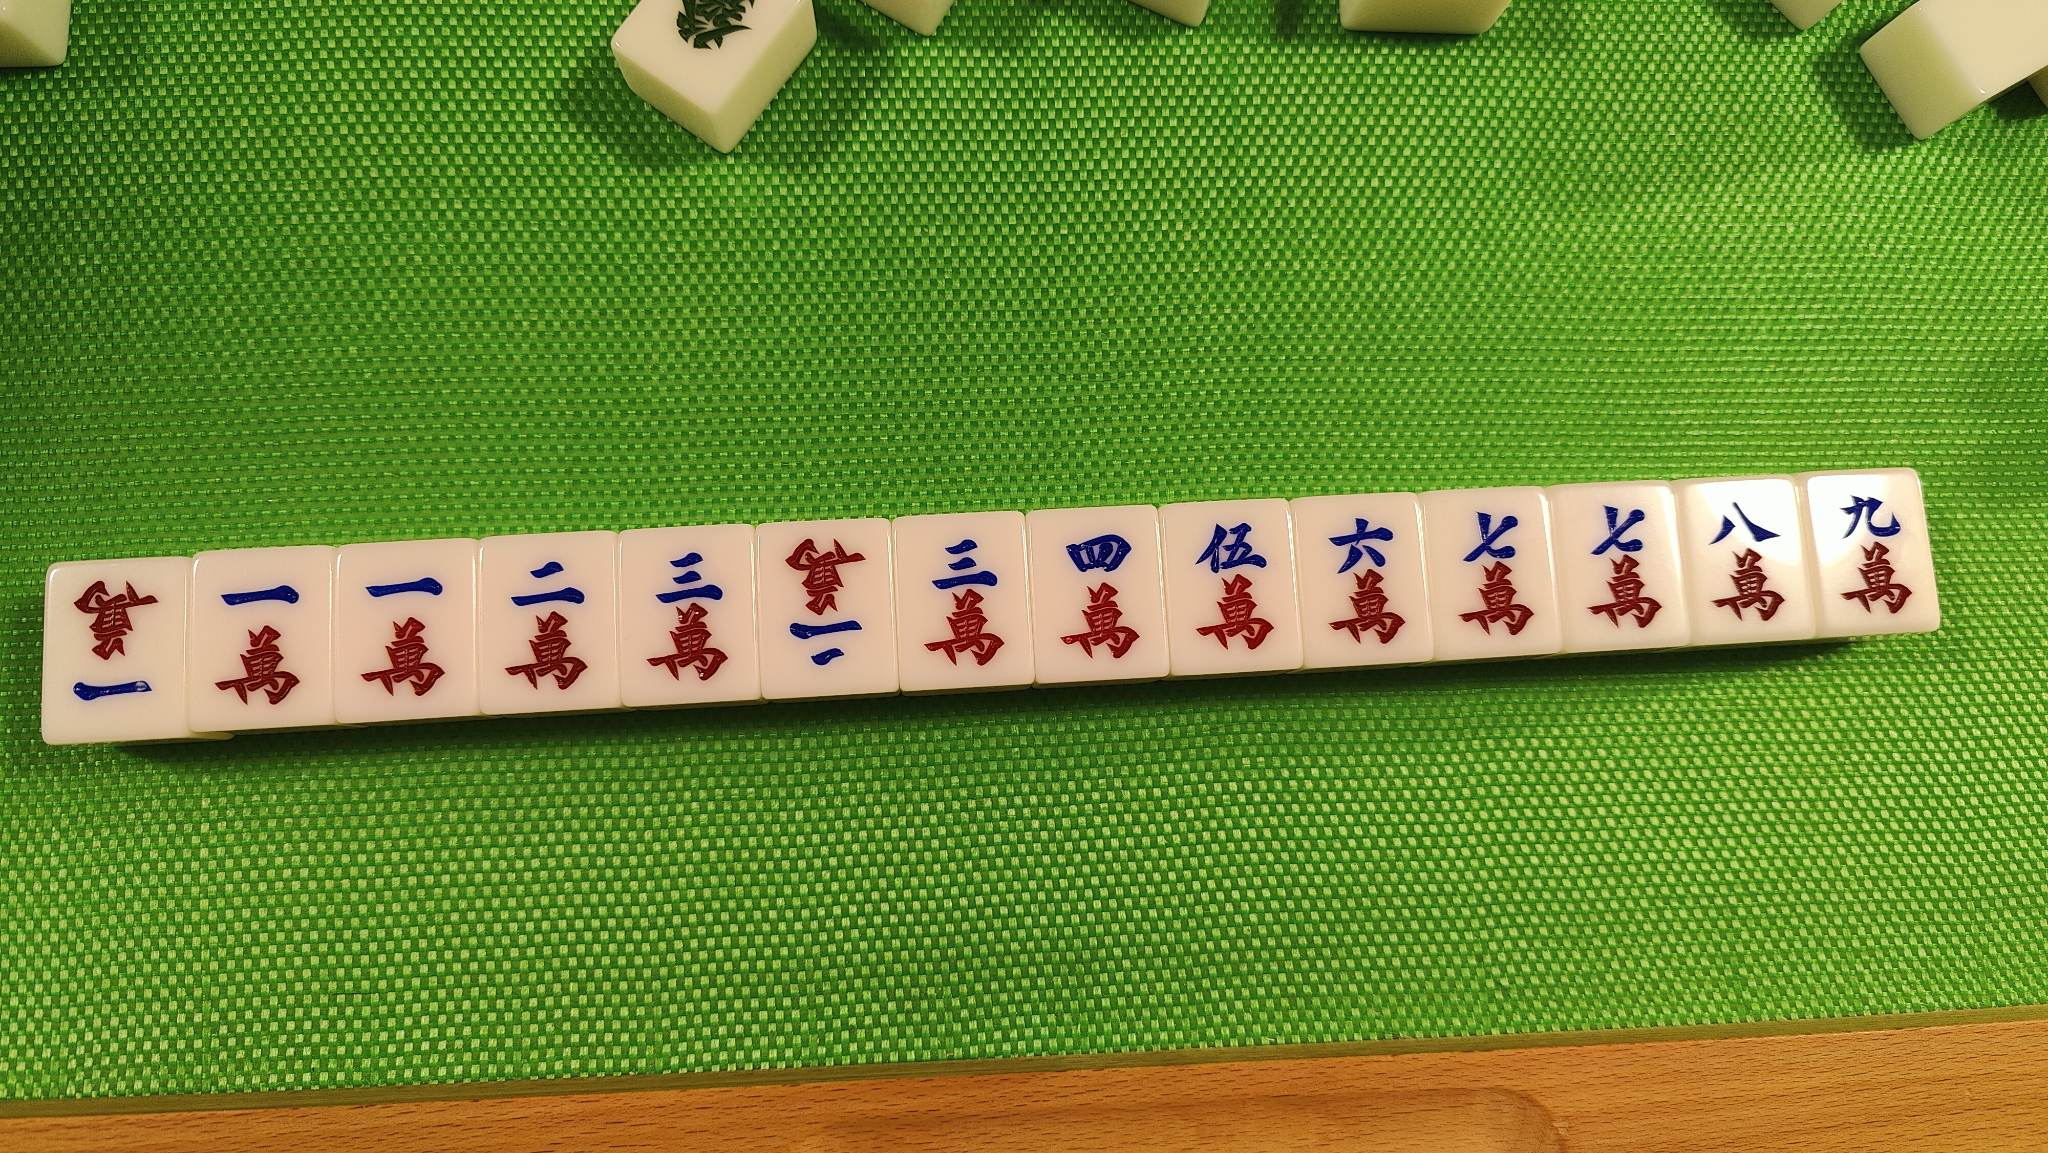character-eight: (1688, 491, 1803, 638)
character-five: (1167, 510, 1293, 661)
character-four: (1032, 523, 1158, 666)
character-nine: (1820, 484, 1921, 614)
character-one: (51, 571, 167, 720), (198, 576, 314, 714), (354, 560, 456, 706)
character-seven: (1436, 503, 1542, 645), (1561, 498, 1665, 641)
character-six: (1305, 505, 1419, 650)
character-three: (900, 523, 1018, 676), (627, 541, 743, 693)
character-two: (487, 548, 605, 700), (765, 532, 879, 683)
